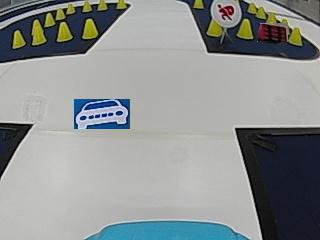thief: (211, 1, 242, 26)
